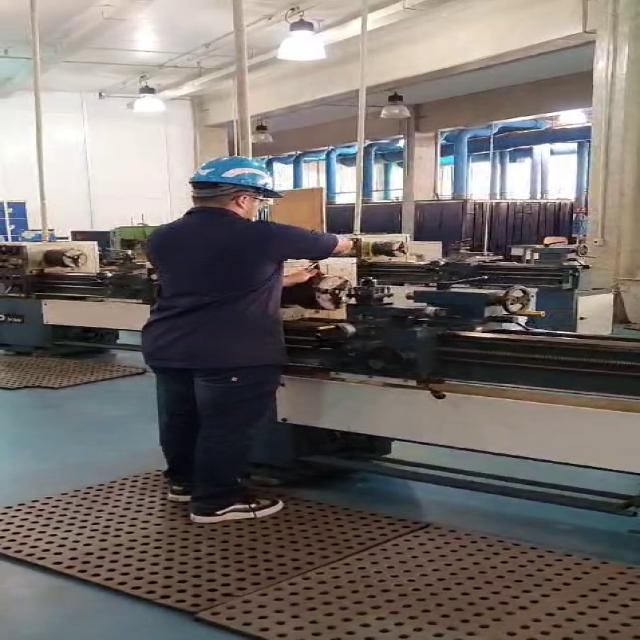oculos-epi: (224, 186, 283, 212)
